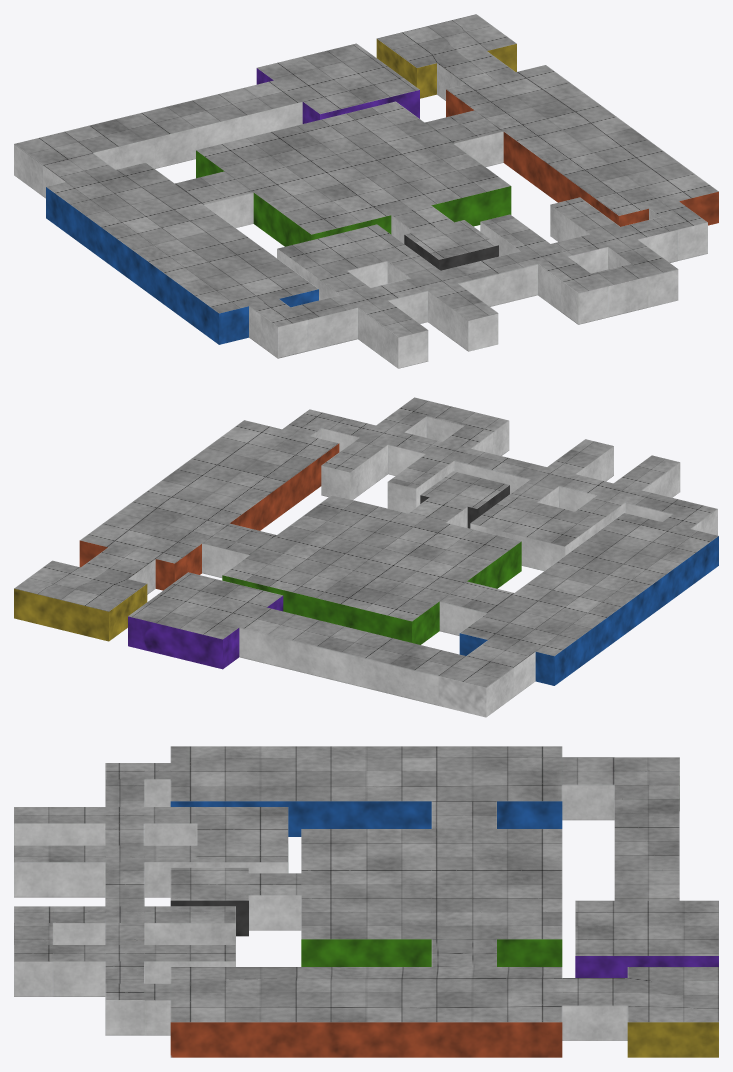
File: room.glb
3 views of the same model, one above another, from view 1: azimuth 30°, elevation 25°; view 2: azimuth 150°, elevation 25°; view 3: azimuth 270°, elevation 25° (orthographic). The views are drawn at different scales.
Parts seen in each view (by area): view 1: Cube; view 2: Cube; view 3: Cube.
Boxes of the visible parts, box(x1,y1,x2,y2) form: Cube: box(14, 14, 718, 368); Cube: box(14, 397, 718, 717); Cube: box(14, 746, 718, 1057).
Size of the model in its own units: 50 by 3 by 54.
Materials: 1 (1 with a texture image).
